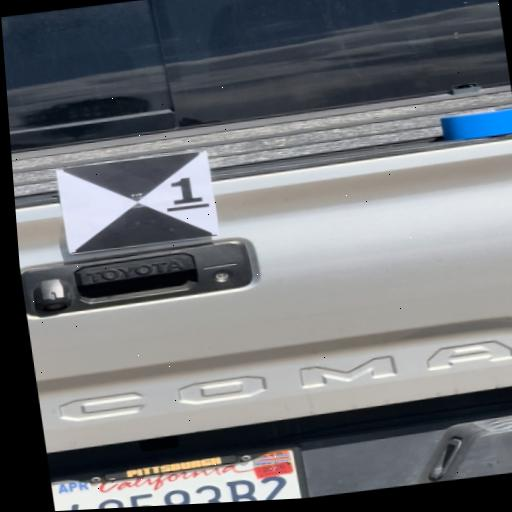target1: (56, 151, 217, 252)
